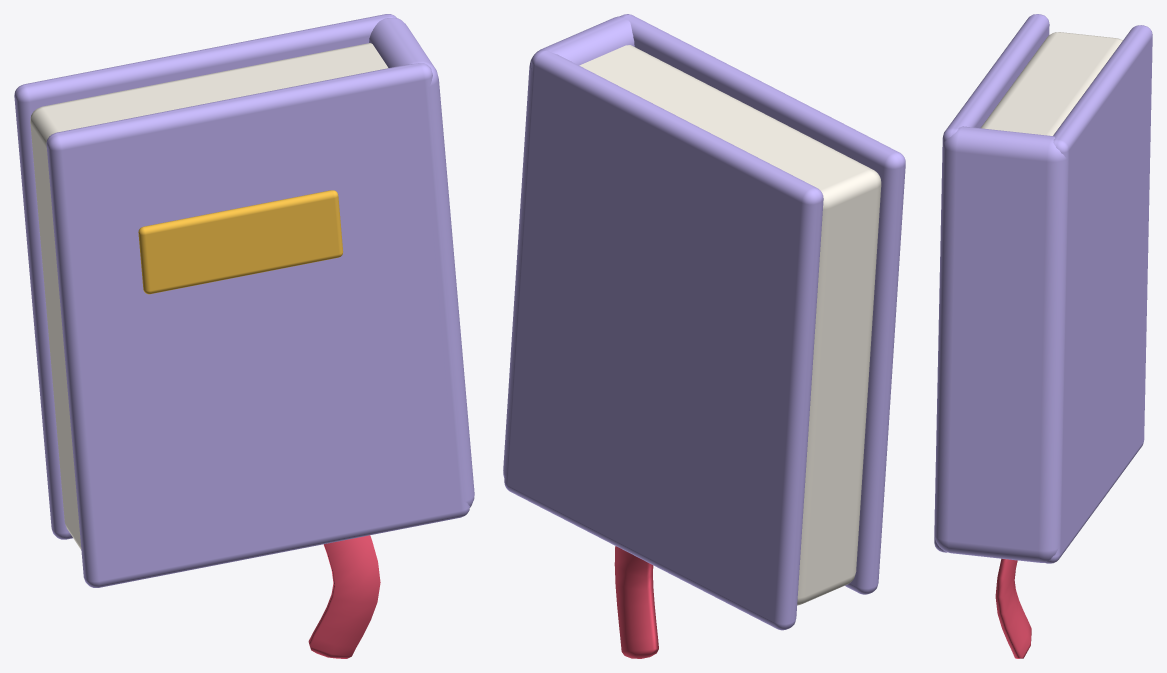
Rendered from prop-book.glb.
3 views of the same model, side by side, from view 1: azimuth 30°, elevation 25°; view 2: azimuth 150°, elevation 25°; view 3: azimuth 270°, elevation 25° (orthographic). The views are drawn at different scales.
Parts seen in each view (by area): view 1: prop-book-mesh; view 2: prop-book-mesh; view 3: prop-book-mesh.
Part boxes in pixels (x1,y1,x2,y2): prop-book-mesh: [14, 14, 474, 658]; prop-book-mesh: [503, 14, 905, 658]; prop-book-mesh: [934, 14, 1152, 658].
Size of the model in its own units: 0.3095 by 0.4537 by 0.1641.
